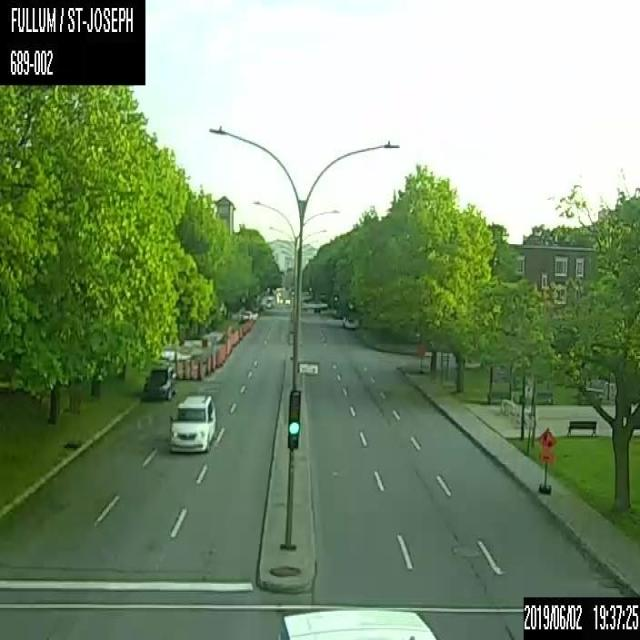construction: (536, 426, 554, 494), (180, 359, 187, 380), (172, 360, 179, 380), (195, 360, 202, 379), (188, 359, 194, 379), (209, 352, 214, 372), (204, 355, 208, 374)
vehicle: (276, 604, 436, 639), (168, 391, 216, 452), (140, 364, 175, 401), (342, 312, 359, 329)
